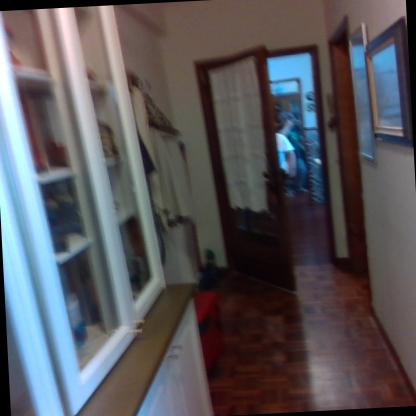semi: (178, 32, 346, 290)
